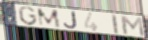4: (84, 12, 99, 33)
G: (18, 6, 39, 27)
I: (111, 14, 120, 36)
J: (63, 10, 79, 30)
M: (119, 14, 146, 37), (36, 8, 62, 29)
